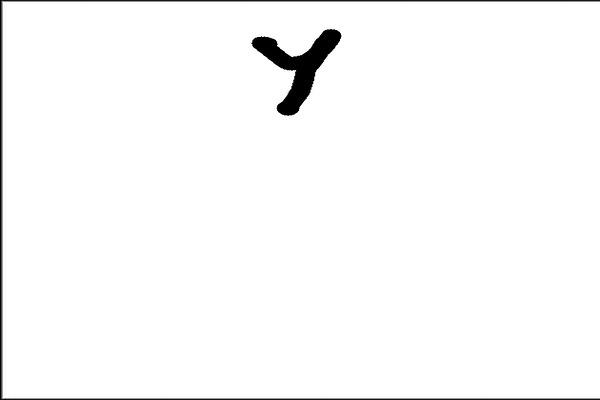Y: (244, 22, 354, 124)
